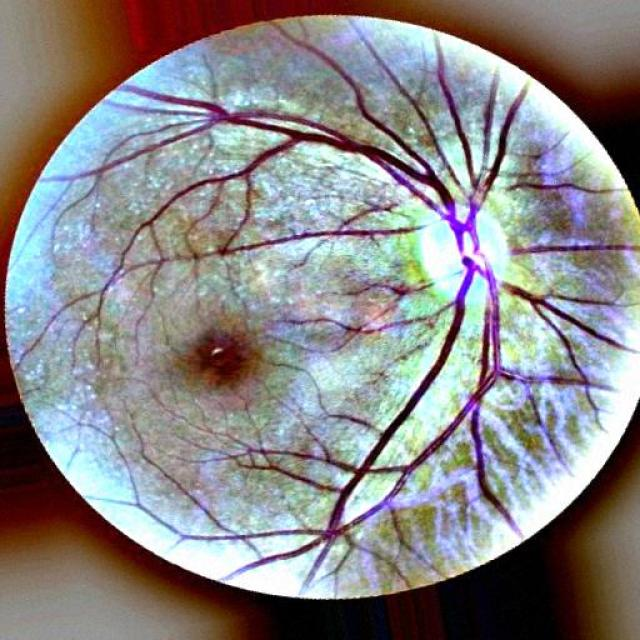Macula: (186, 331, 254, 385)
Nerves: (51, 30, 628, 585), (508, 172, 620, 199), (511, 239, 639, 255)
Optic Disk: (414, 204, 510, 329)
